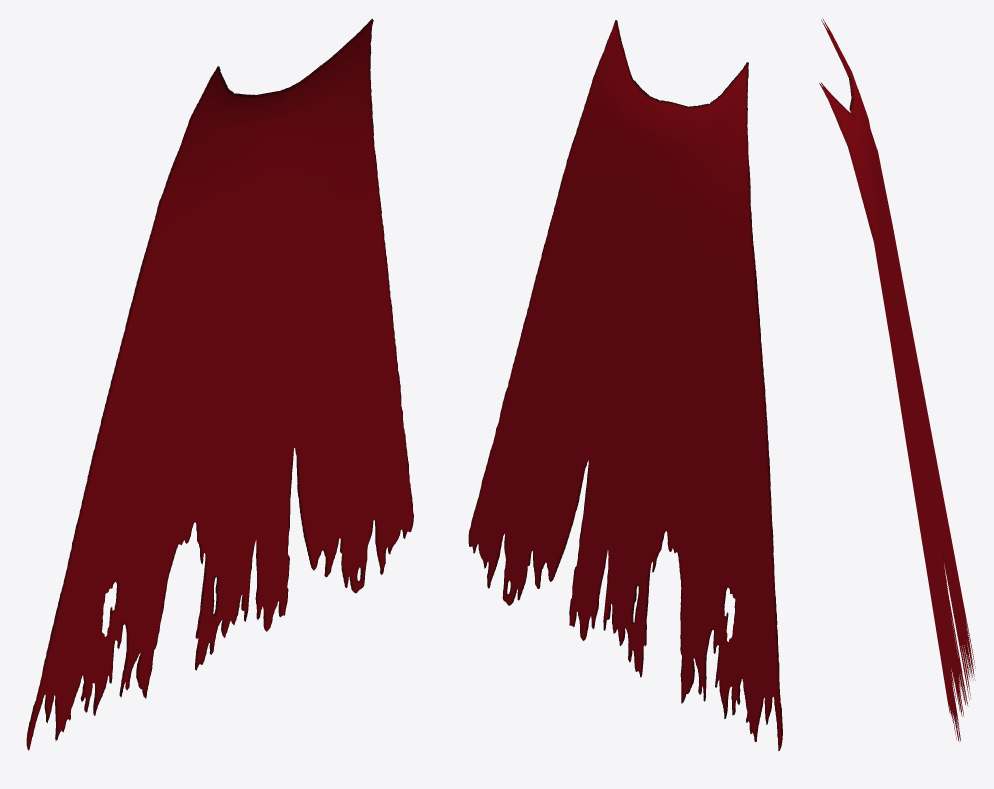
The model's file is RubyCapa.obj.
3 views of the same model, side by side, from view 1: azimuth 30°, elevation 25°; view 2: azimuth 150°, elevation 25°; view 3: azimuth 270°, elevation 25° (orthographic). The views are drawn at different scales.
Parts seen in each view (by area): view 1: node_id28.005_Material_0; view 2: node_id28.005_Material_0; view 3: node_id28.005_Material_0.
Boxes of the visible parts, bbox=[...] form: node_id28.005_Material_0: bbox=[26, 19, 413, 750]; node_id28.005_Material_0: bbox=[468, 20, 782, 750]; node_id28.005_Material_0: bbox=[819, 19, 975, 741].
Bounding box in the file's own units: 0.1412 × 0.2548 × 0.0507.
